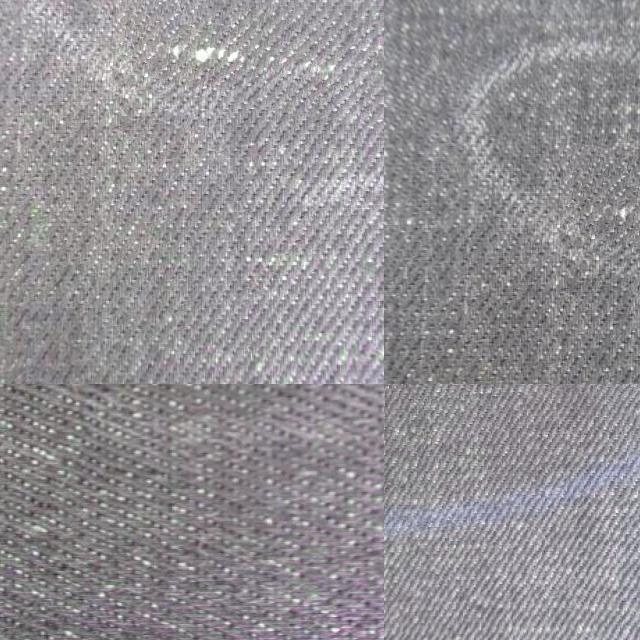Thread_other: (111, 0, 384, 124), (558, 156, 640, 286)
